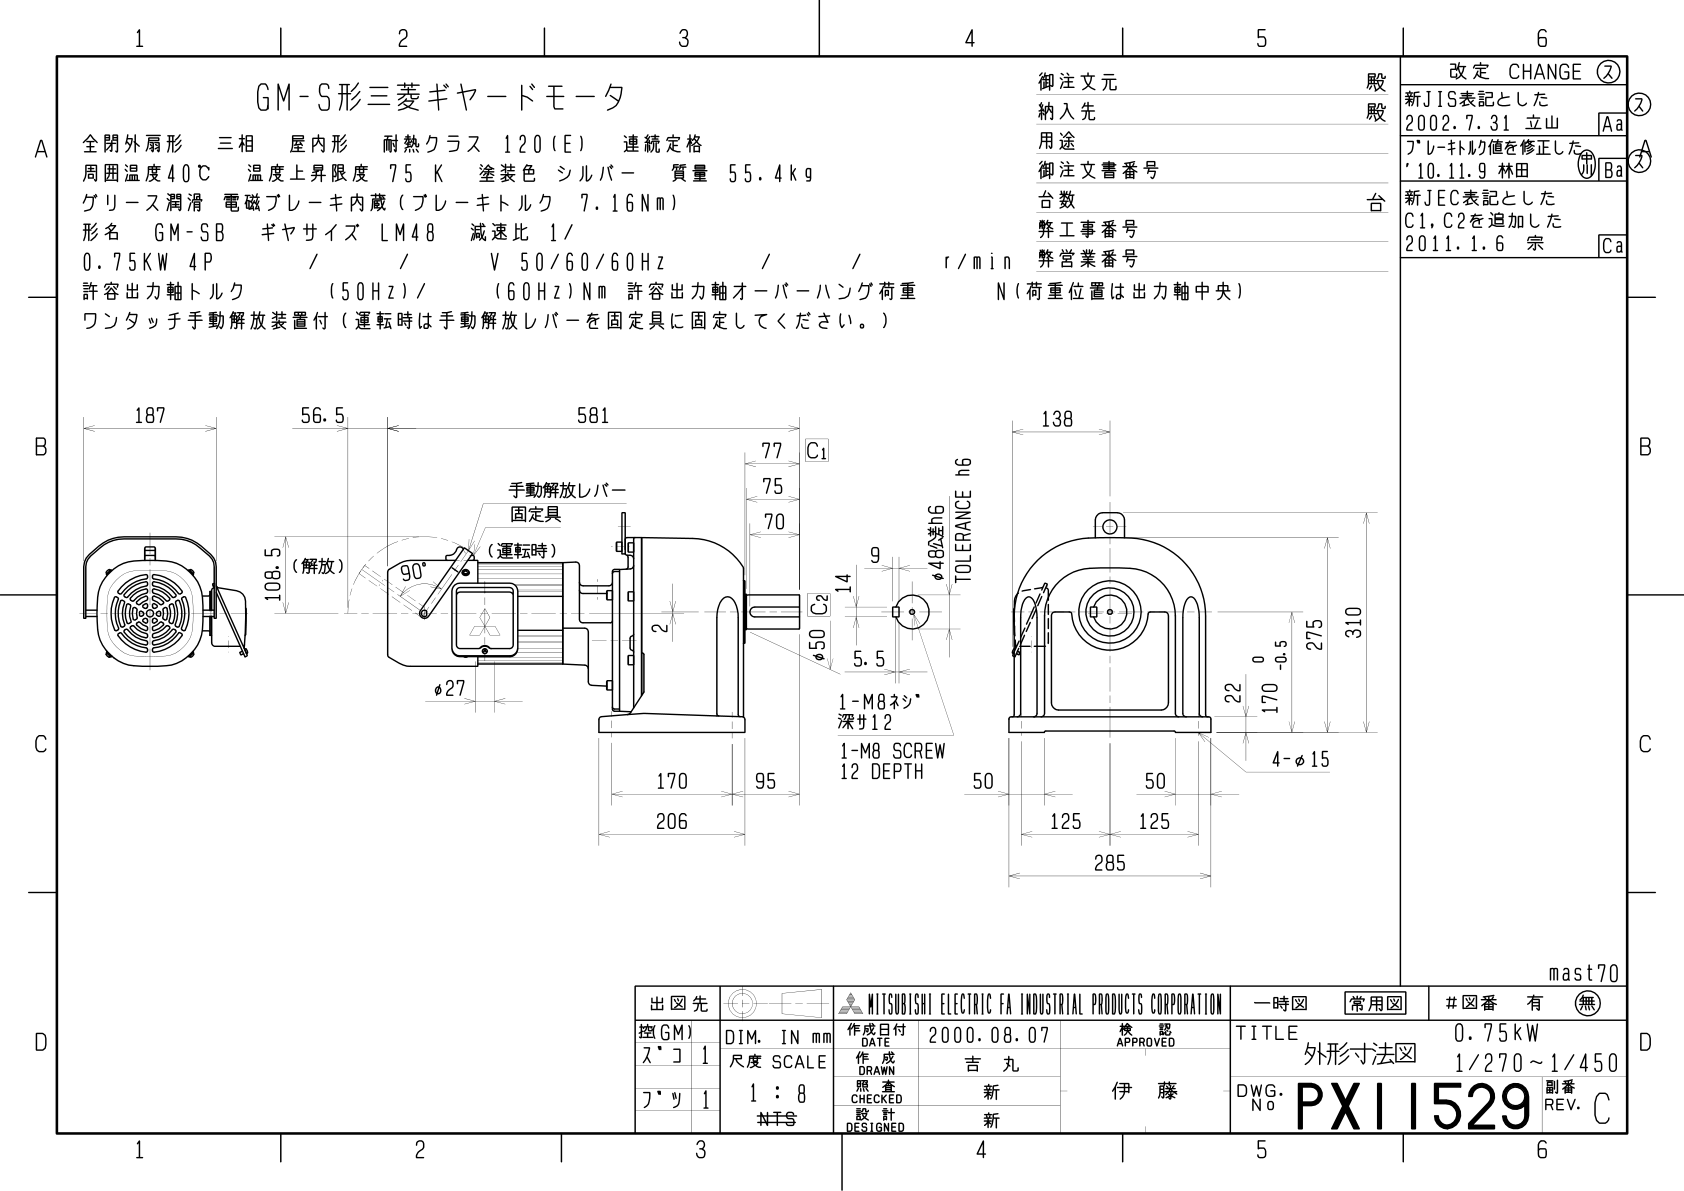GM_S_手動ブレーキ＿三相_脚: (71, 363, 1392, 956)
